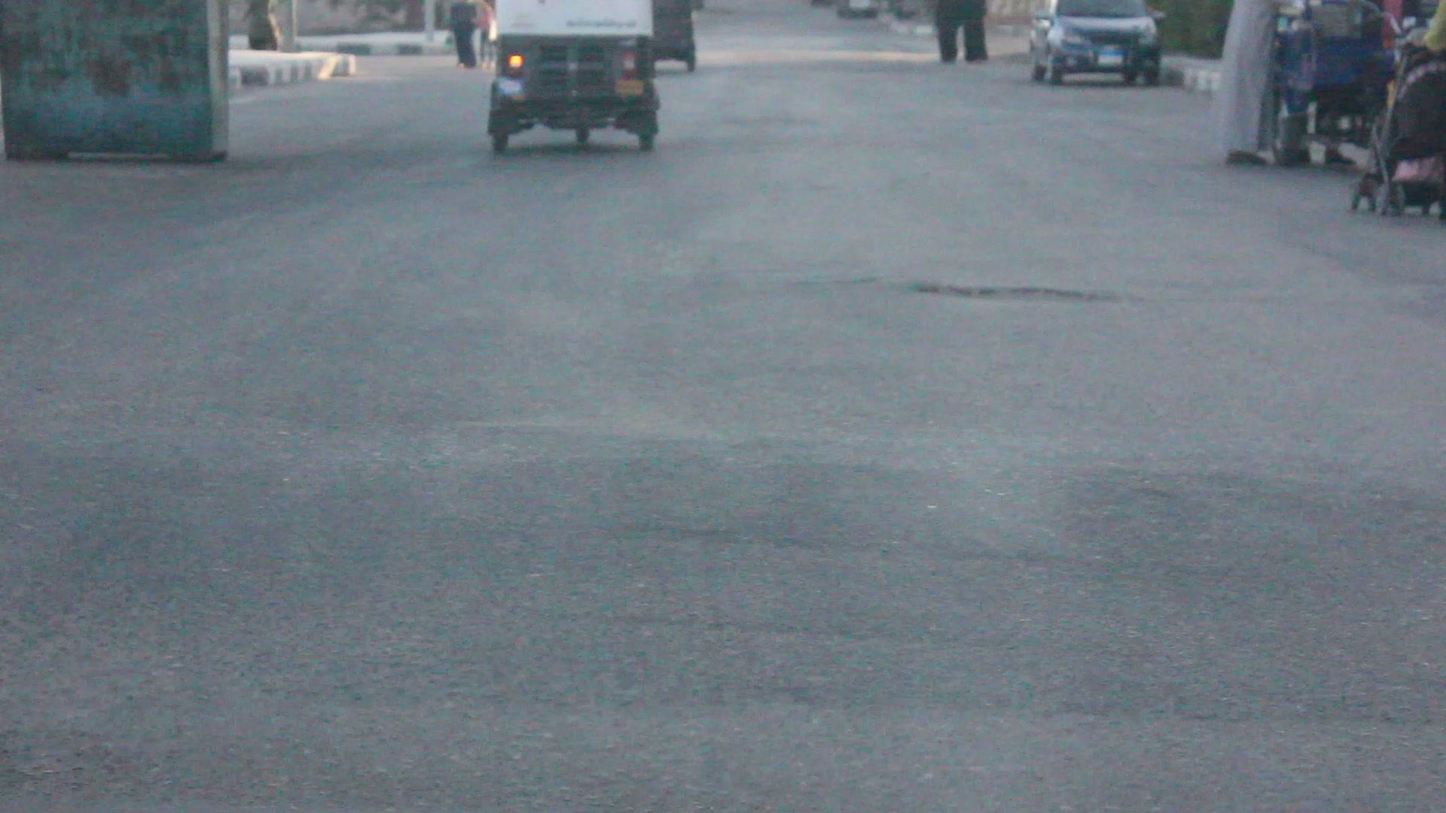Bump: (4, 411, 1445, 733)
